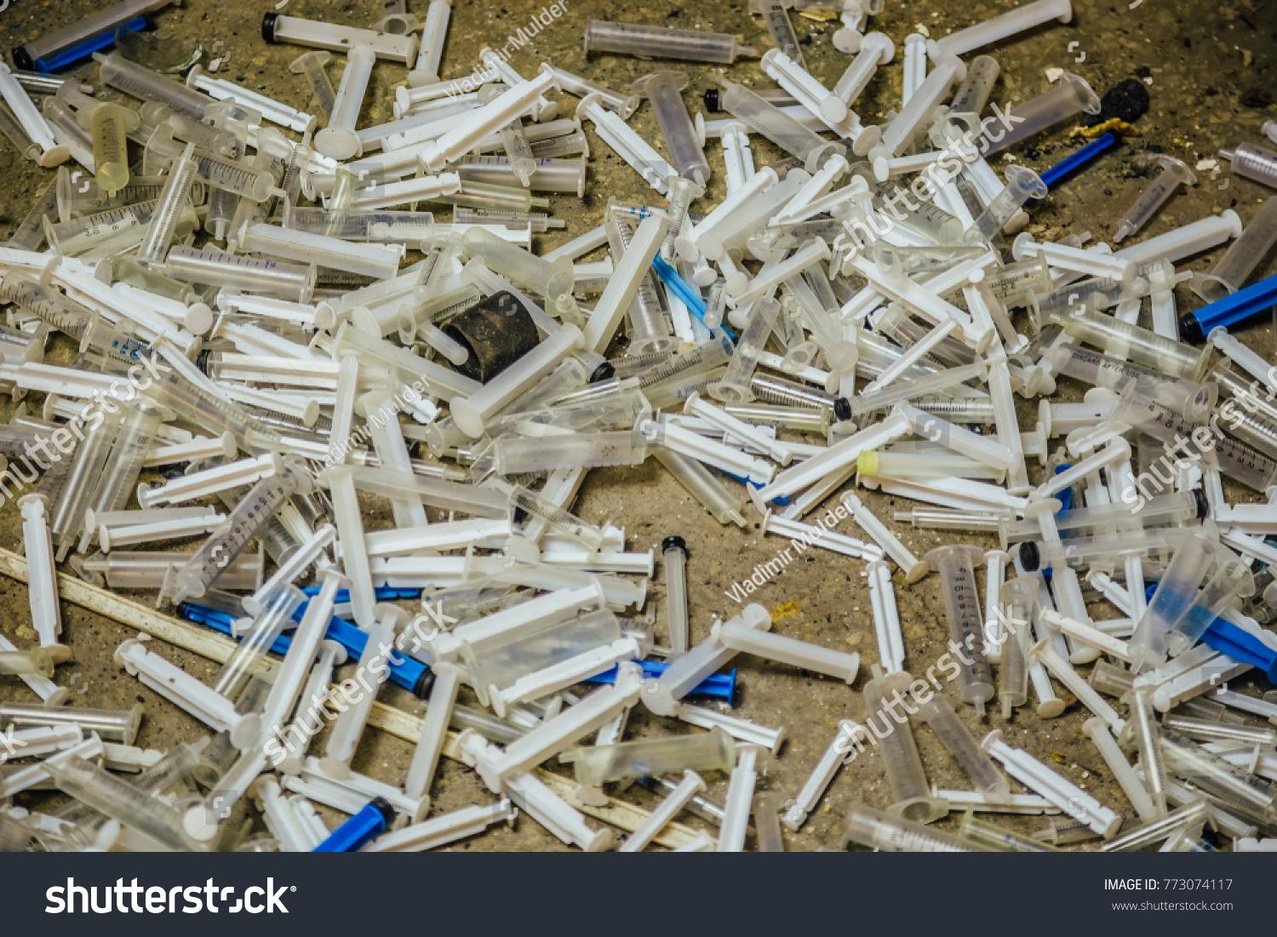Syringe: (161, 463, 312, 604), (1110, 388, 1276, 490), (863, 664, 948, 822), (1047, 344, 1217, 422), (1128, 530, 1217, 671), (1051, 306, 1212, 381), (924, 546, 994, 715), (720, 82, 845, 172), (146, 370, 281, 453), (982, 72, 1100, 156), (631, 71, 709, 186), (1192, 197, 1276, 301), (164, 245, 316, 302), (93, 53, 215, 119), (91, 397, 161, 512), (583, 20, 756, 64), (841, 803, 992, 852), (1113, 155, 1195, 243), (283, 202, 435, 249), (45, 201, 157, 255), (55, 167, 167, 220), (192, 149, 278, 201), (959, 808, 1058, 851), (750, 0, 805, 66), (1219, 142, 1276, 187), (108, 189, 112, 193)
